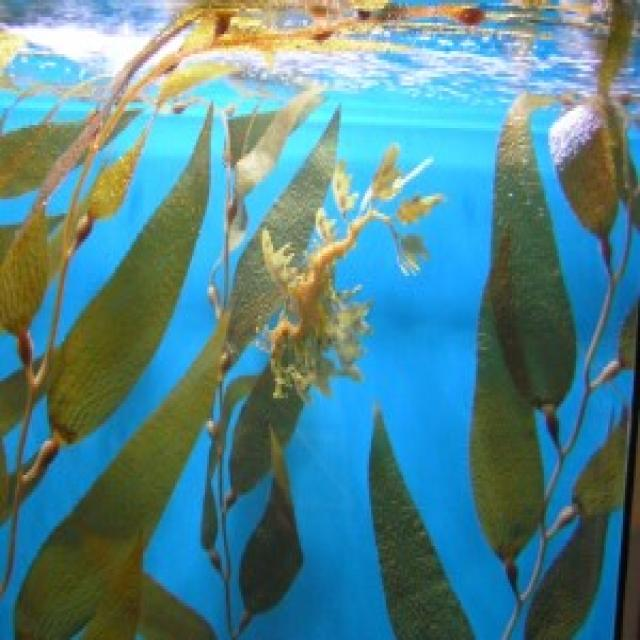Seahorse: (268, 158, 441, 404)
